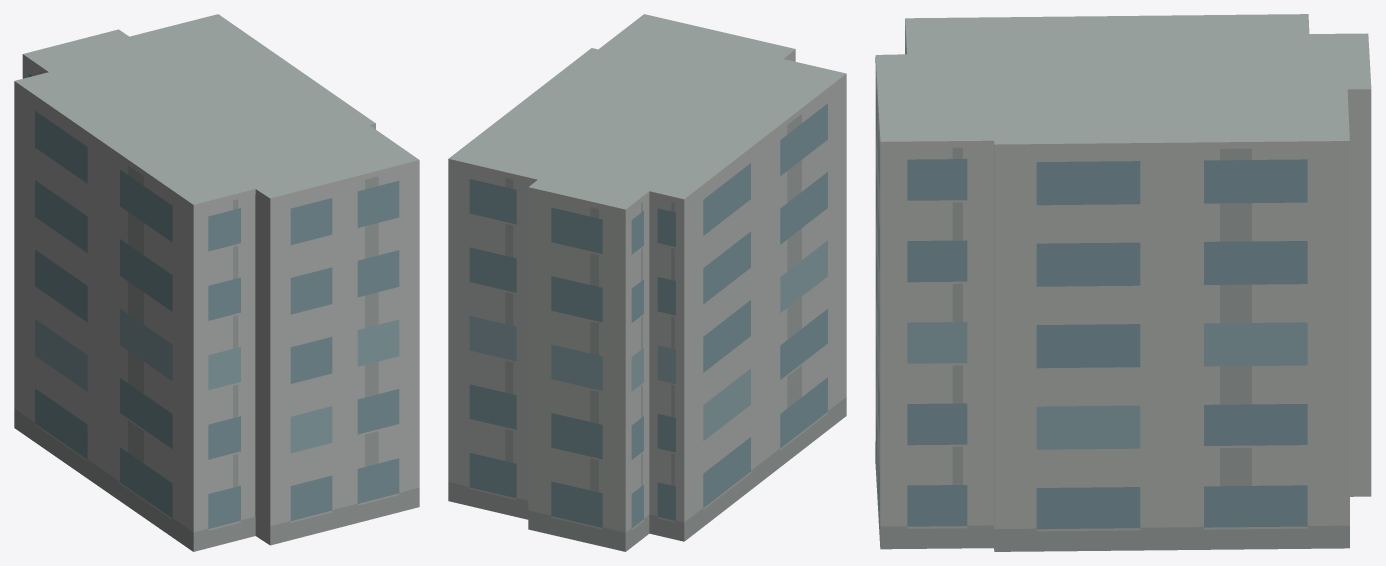
File: survey-upis-32825499.glb
The picture shows the model from 3 angles, left to right: view 1: azimuth 30°, elevation 25°; view 2: azimuth 150°, elevation 25°; view 3: azimuth 270°, elevation 25°; orthographic projection. The views are drawn at different scales.
Visible parts, largest first — view 1: survey-upis-32825499.tmp; view 2: survey-upis-32825499.tmp; view 3: survey-upis-32825499.tmp.
Boxes of the visible parts, bbox=[...] form: survey-upis-32825499.tmp: bbox=[14, 14, 419, 551]; survey-upis-32825499.tmp: bbox=[448, 14, 846, 551]; survey-upis-32825499.tmp: bbox=[875, 14, 1371, 551].
Bounding box in the file's own units: 10.28 × 14.95 × 16.5.
